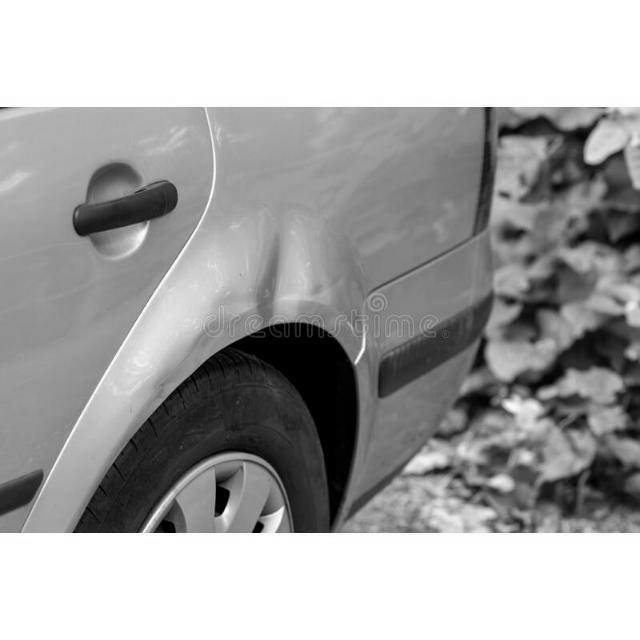quaterpanel-dent: (136, 107, 481, 485)
